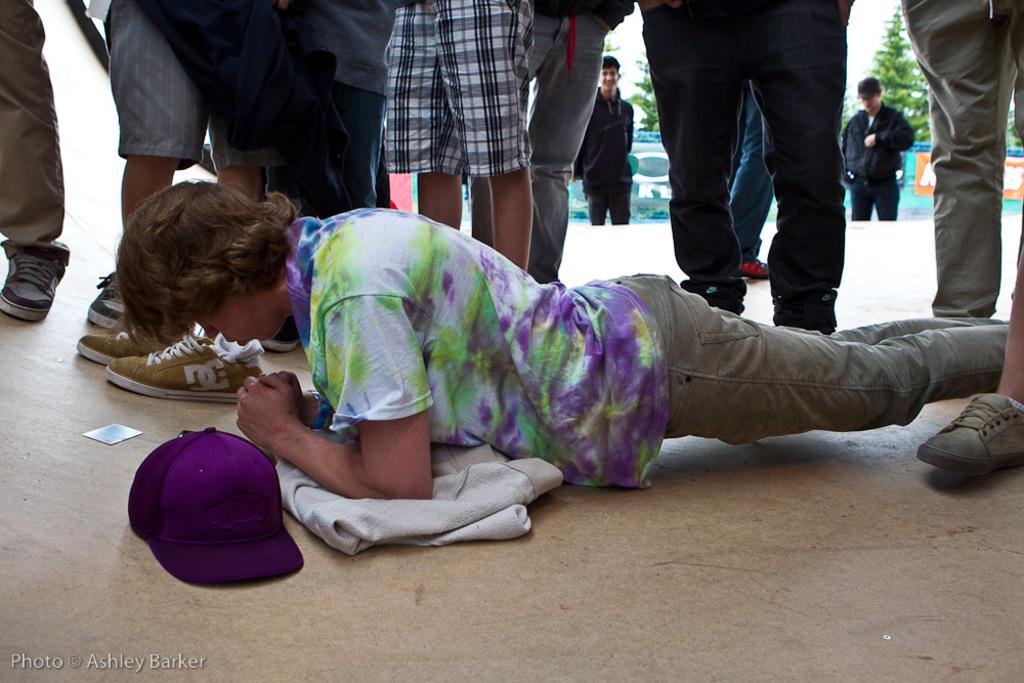Hat: (124, 424, 304, 588), (854, 74, 882, 98)
